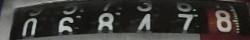digits: (214, 9, 231, 32), (177, 13, 198, 29), (97, 12, 113, 31), (22, 17, 37, 36), (58, 16, 73, 33), (137, 13, 150, 30)
